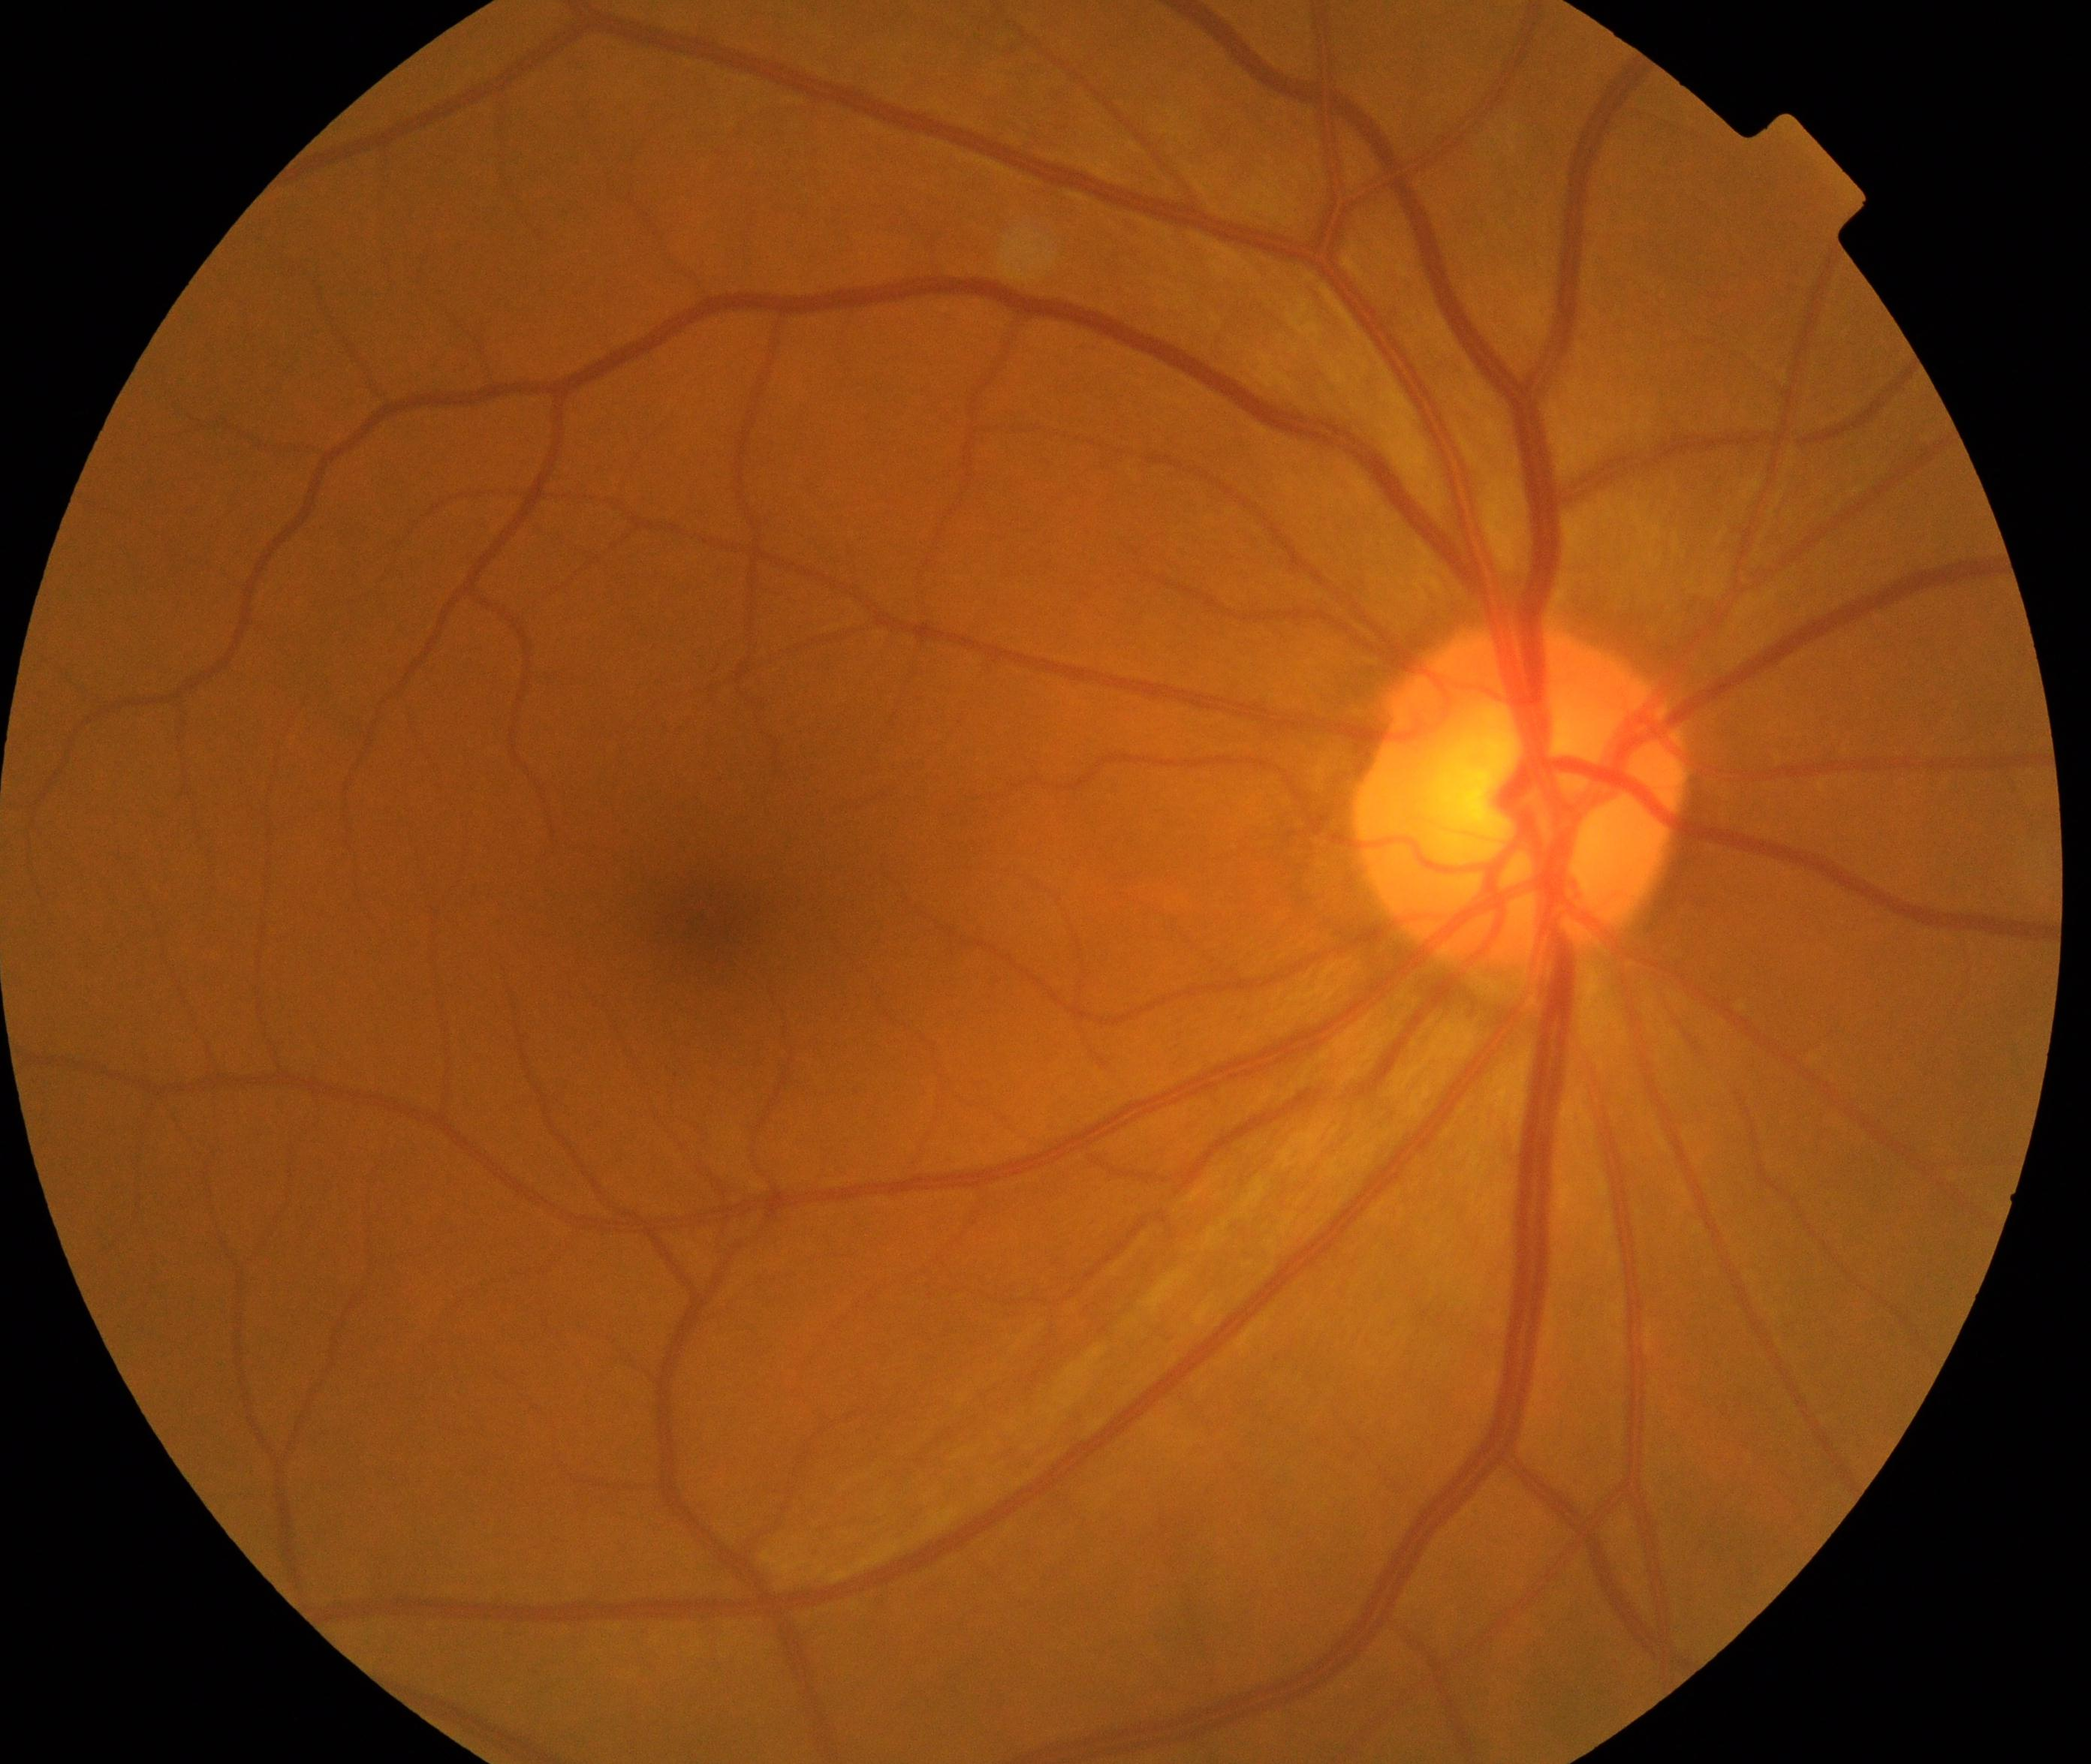Optic Cup: (1421, 721, 1550, 868)
Optic Disc: (1354, 625, 1689, 992)
